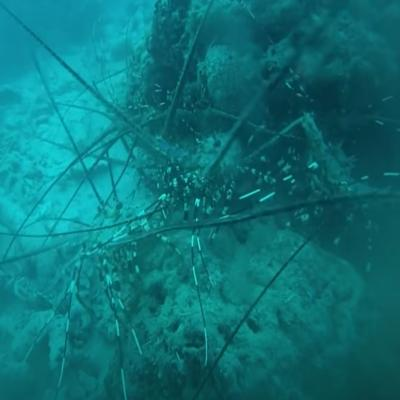lobster: (84, 190, 139, 287), (183, 126, 242, 215), (311, 136, 356, 205)
